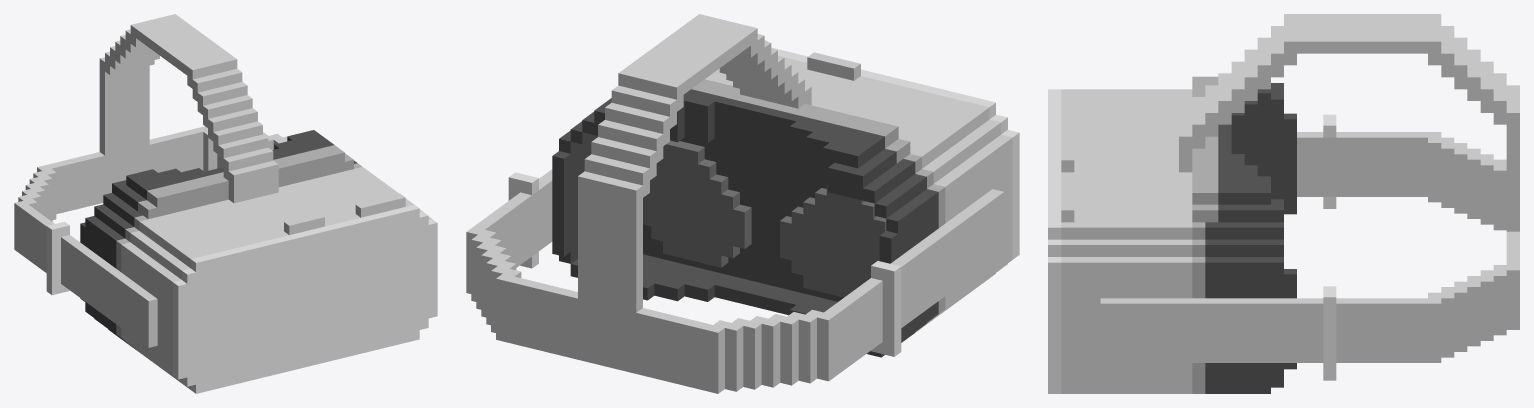
The picture shows the model from 3 angles, left to right: view 1: azimuth 30°, elevation 25°; view 2: azimuth 150°, elevation 25°; view 3: azimuth 270°, elevation 25°; orthographic projection. The views are drawn at different scales.
Parts seen in each view (by area): view 1: oculus_go; view 2: oculus_go; view 3: oculus_go.
Boxes of the visible parts, box(x1,y1,x2,y2) form: oculus_go: box(14, 14, 437, 393); oculus_go: box(466, 14, 1019, 393); oculus_go: box(1048, 14, 1519, 393).
Bounding box in the file's own units: 33 × 25 × 36.
1 material, 1 textured.
